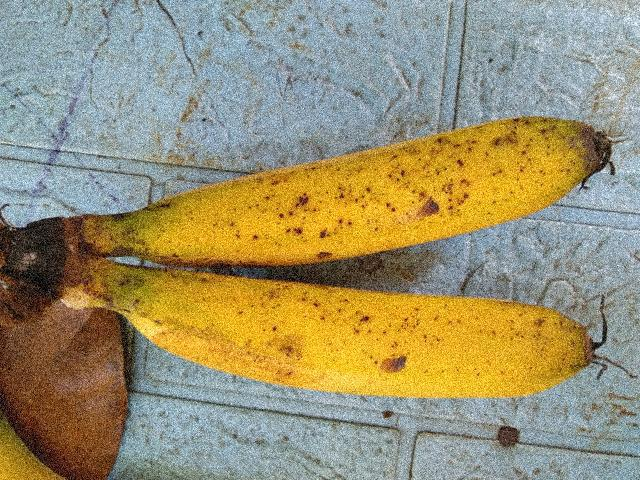ripe: (96, 100, 621, 289), (124, 271, 639, 429)
